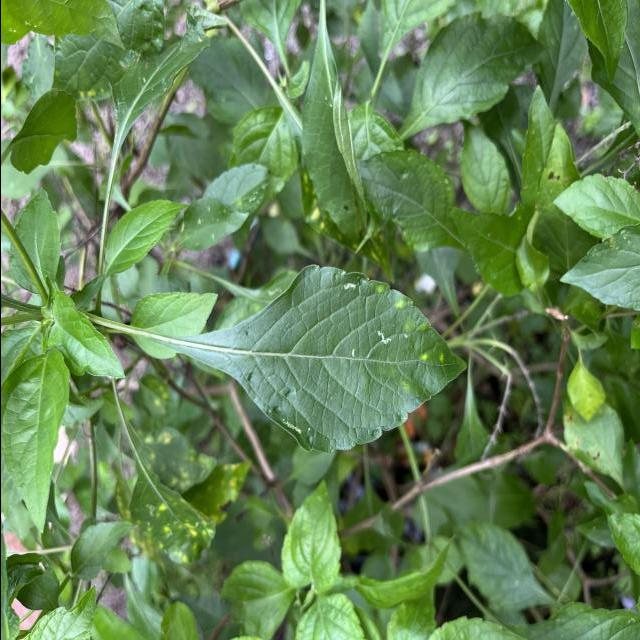Ocimum gratissimum: (149, 261, 469, 458), (0, 345, 71, 536), (92, 194, 192, 279), (549, 168, 640, 243)
